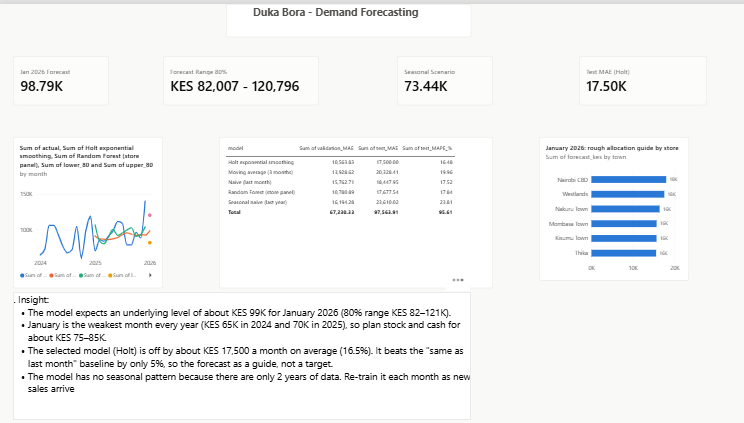

The page's visual inventory and layout, read from the dashboard file:
{"tool":"powerbi","page":{"name":"Demand Forecasting","canvas":[1920,1080],"ordinal":4},"visuals":[{"type":"textbox","box":[567.5,0,612.5,82.5],"z":0},{"type":"cardVisual","fields":{"Data":["_Measures.Jan 2026 Forecast"]},"box":[35,130,240,122.5],"z":1},{"type":"cardVisual","fields":{"Data":["_Measures.Test MAE (Holt)"]},"box":[1450,130,320,122.5],"z":2},{"type":"cardVisual","fields":{"Data":["_Measures.Seasonal Scenario"]},"box":[995,130,240,122.5],"z":3},{"type":"cardVisual","fields":{"Data":["_Measures.Forecast Range 80%"]},"box":[410,130,390,122.5],"z":4},{"type":"lineChart","fields":{"Category":["fact_forecast.month"],"Y":["Sum(fact_forecast.actual)","Sum(fact_forecast.Holt exponential smoothing)","Sum(fact_forecast.Random Forest (store panel))","Sum(fact_forecast.lower_80)","Sum(fact_forecast.upper_80)"]},"box":[35,332.5,375,377.5],"z":5},{"type":"tableEx","fields":{"Values":["model_metrics.model","Sum(model_metrics.validation_MAE)","Sum(model_metrics.test_MAE)","Sum(model_metrics.test_MAPE_%)"]},"box":[550,332.5,685,377.5],"z":6},{"type":"clusteredBarChart","title":"January 2026: rough allocation guide by store","fields":{"Category":["forecast_store_jan2026.town"],"Y":["Sum(forecast_store_jan2026.forecast_kes)"]},"box":[1350,332.5,375,359],"z":7},{"type":"textbox","box":[35,720,1145,320],"z":8}]}

Visuals, with their boxes in screenshot pixels (x1, y1, x2, y2), scaled from the page's 1920x1080 canvas onto the 744x423 screenshot:
textbox: 220,0,457,32
cardVisual - _Measures.Jan 2026 Forecast: 14,51,107,99
cardVisual - _Measures.Test MAE (Holt): 562,51,686,99
cardVisual - _Measures.Seasonal Scenario: 386,51,479,99
cardVisual - _Measures.Forecast Range 80%: 159,51,310,99
lineChart - fact_forecast.month x Sum(fact_forecast.actual): 14,130,159,278
tableEx - model_metrics.model x Sum(model_metrics.validation_MAE): 213,130,479,278
"January 2026: rough allocation guide by store" clusteredBarChart: 523,130,668,271
textbox: 14,282,457,407
